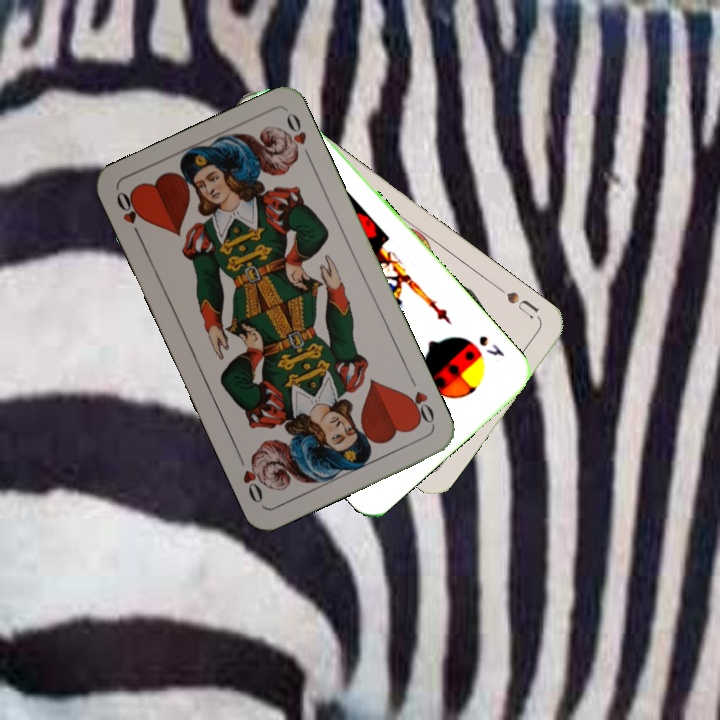HO: (400, 372, 437, 428), (112, 187, 146, 244)
SK: (474, 331, 508, 359)
SU: (492, 282, 542, 322)
